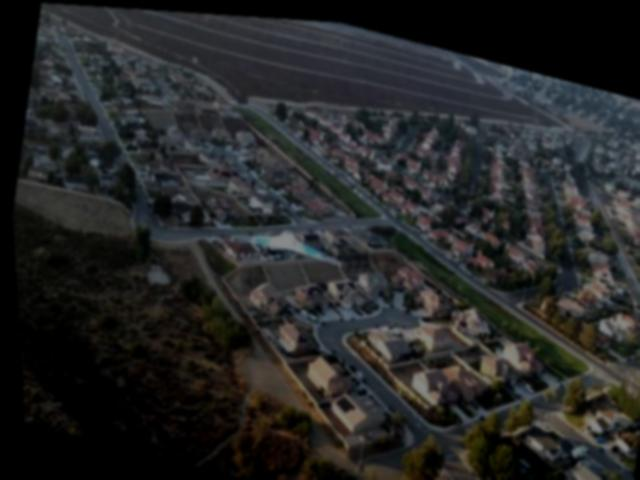iha: (226, 211, 342, 273)
